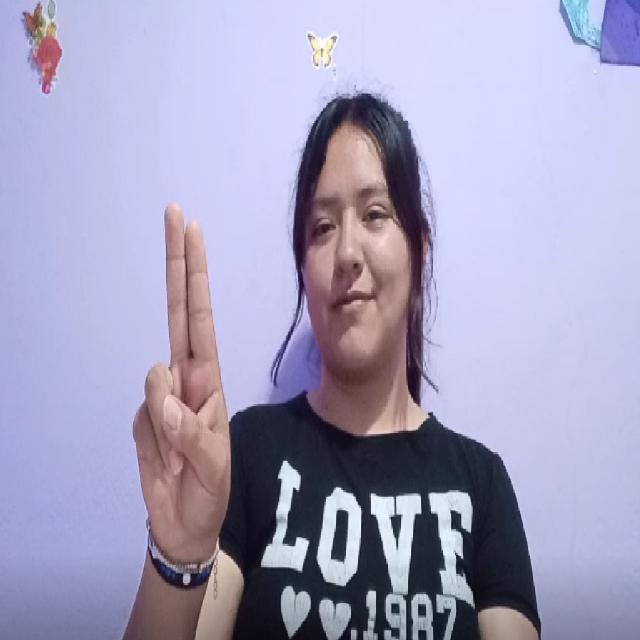U: (115, 198, 234, 552)
